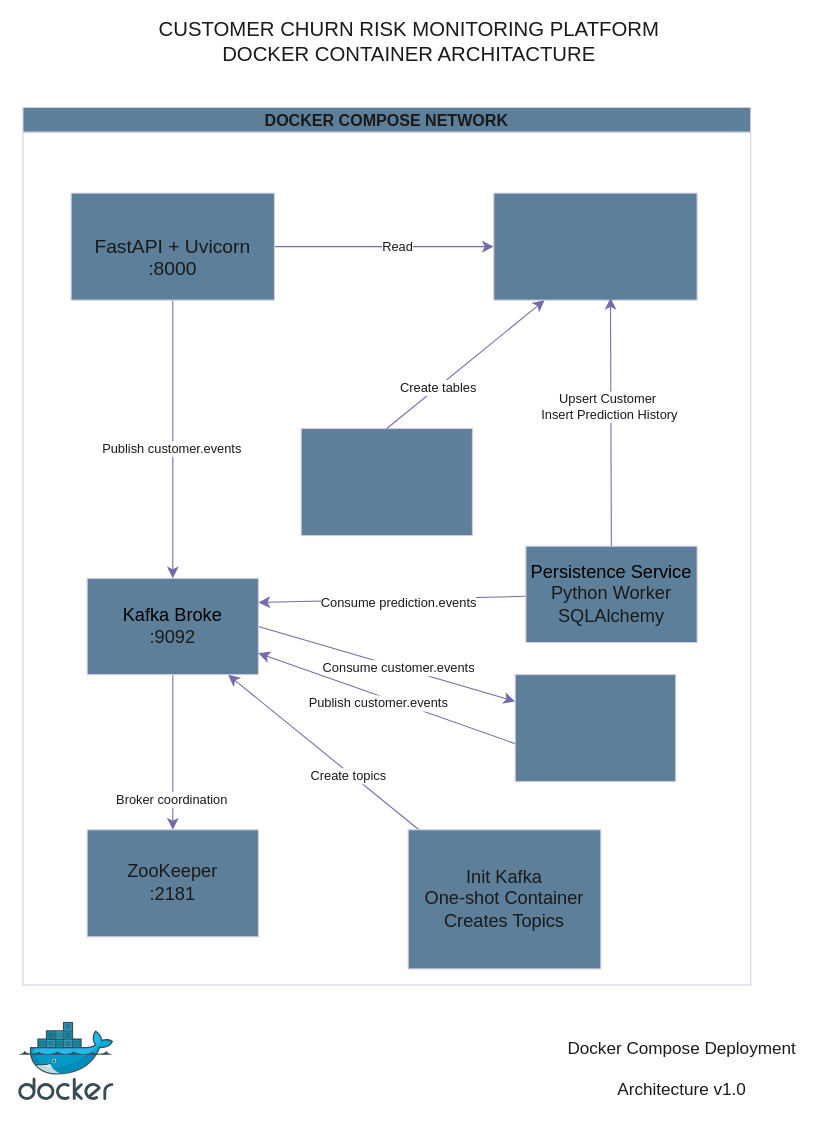
Some shapes in this 817 by 1132 pixel diagram are drawn without their labels. Here are the shapes that lost their labels. From the top down, the centre of each, then its label:
At [595,246]: "PostgreSQL :5432 Volume: postgres_data".
At [386,481]: "Init DB One-shot Container Creates Tables".
At [595,728]: "Prediction Service Python Worker XGBoost Pipeline".
